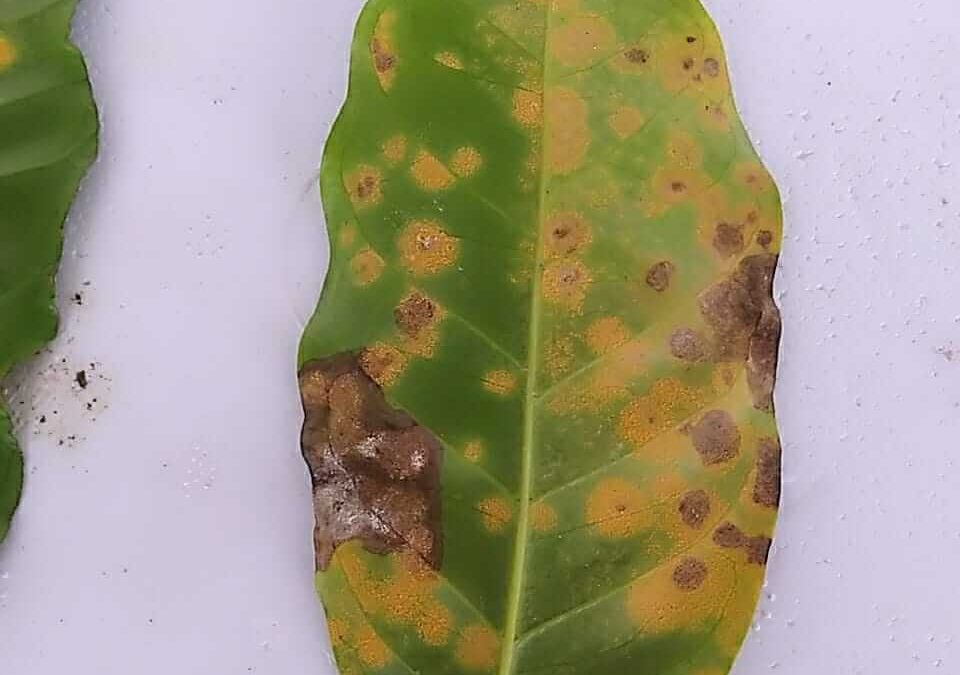roya: (368, 14, 758, 638)
